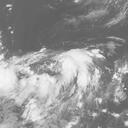cyclone: (55, 48, 99, 88)
